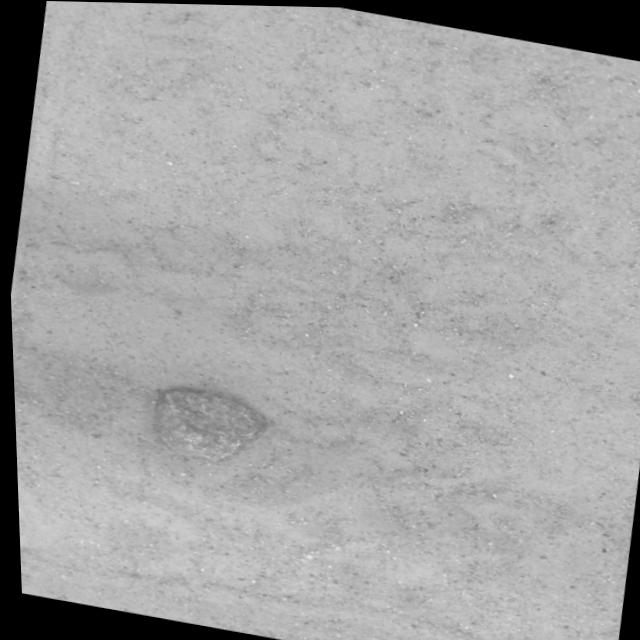rock: (151, 389, 263, 460)
